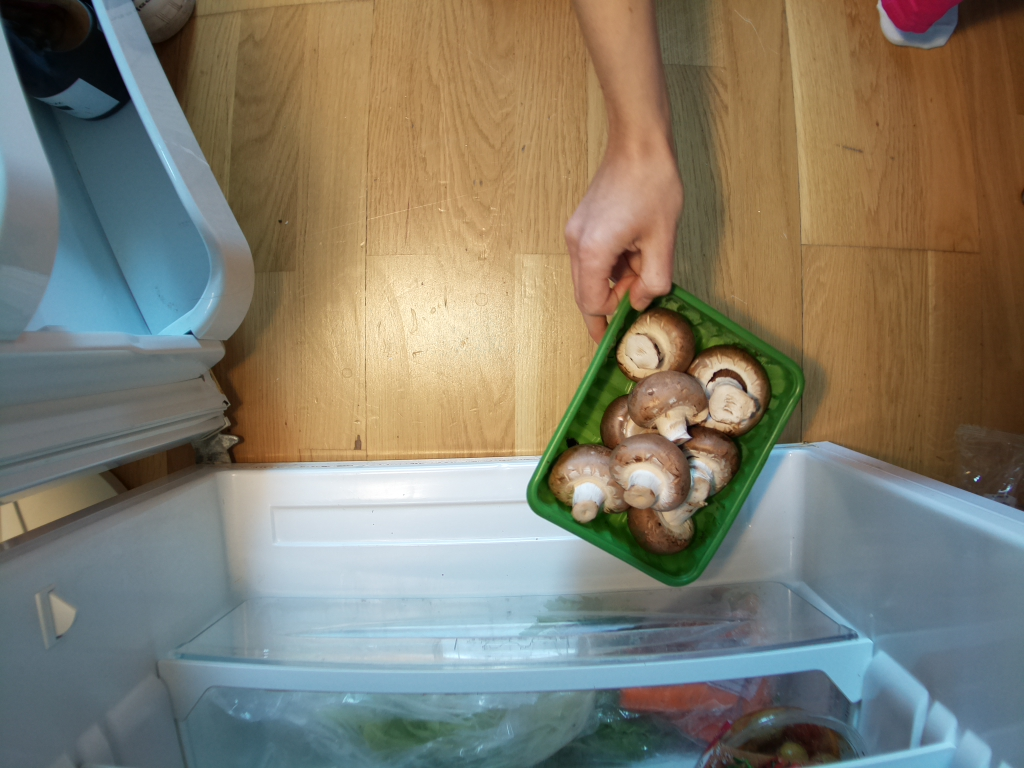mushrooms: (527, 286, 799, 586)
